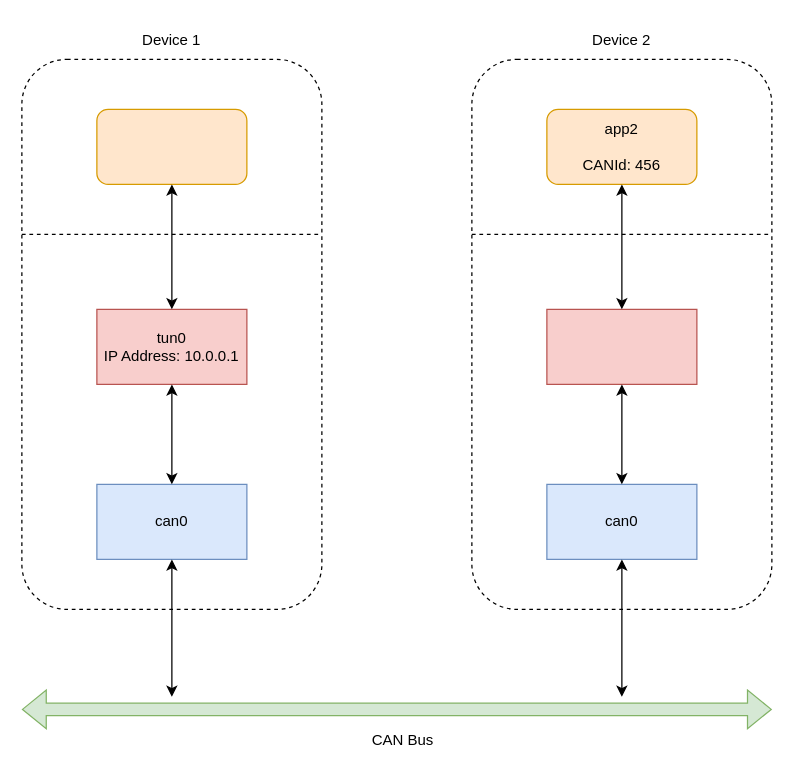
The diagram is 795 pixels wide and 780 high, and some of its shapes have lost their labels. The centre of each missing label's shape, as x and y in pixels:
app1 CANId: 123: point 171,146
tun1 IP Address: 10.0.0.2: point 621,346
